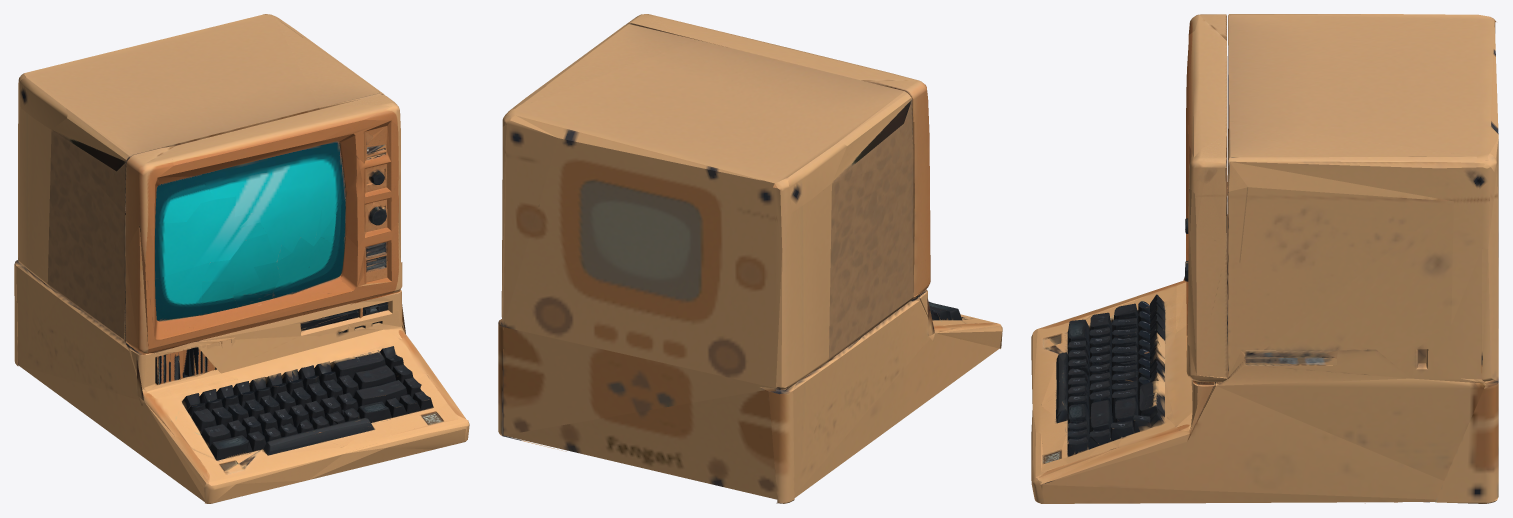
3 renders of one model, left to right at view 1: azimuth 30°, elevation 25°; view 2: azimuth 150°, elevation 25°; view 3: azimuth 270°, elevation 25°, orthographic. The views are drawn at different scales.
Bounding box in the file's own units: 1.47 × 1.54 × 1.9.
Materials: 1 (1 with a texture image).
